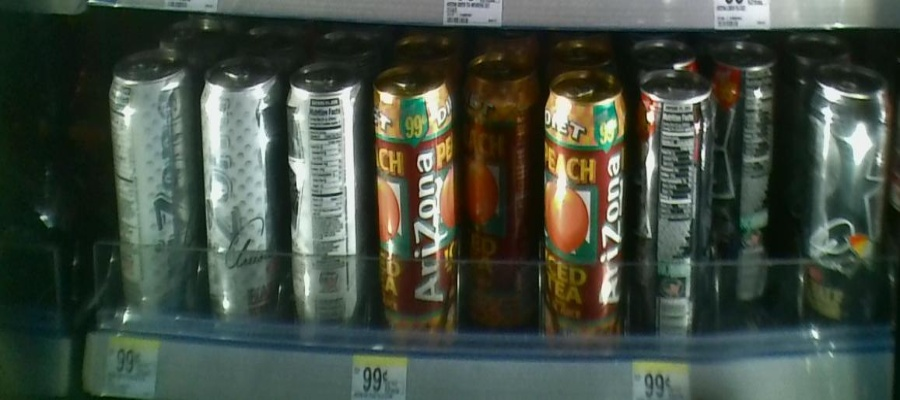bottle: (103, 42, 198, 324), (369, 59, 456, 347), (539, 60, 629, 338), (632, 64, 715, 356), (281, 53, 365, 334), (810, 49, 892, 332), (199, 53, 280, 331), (462, 51, 534, 345), (716, 48, 774, 309)
